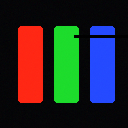3 line_h: (74, 35, 127, 37)
